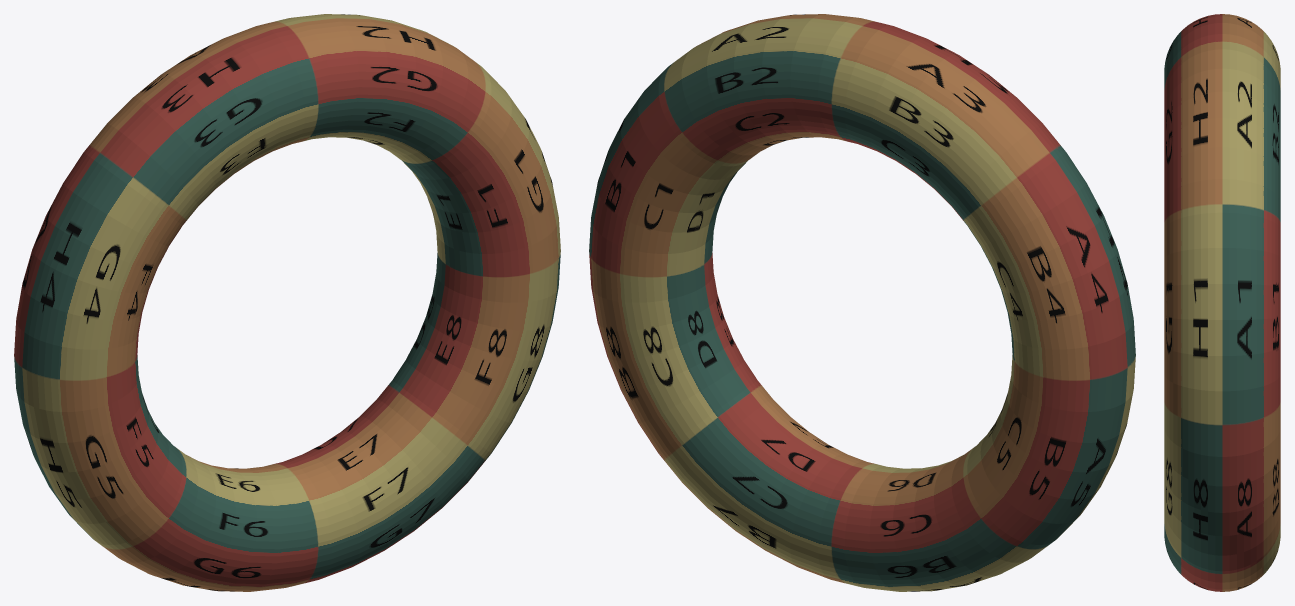
The model's file is texture_torus_R27_r19.glb.
3 renders of one model, left to right at view 1: azimuth 30°, elevation 25°; view 2: azimuth 150°, elevation 25°; view 3: azimuth 270°, elevation 25°, orthographic. The views are drawn at different scales.
Parts seen in each view (by area): view 1: world; view 2: world; view 3: world.
Part boxes in pixels (left/top/right/bottom): world: left=14, top=14, right=560, bottom=591; world: left=589, top=14, right=1135, bottom=591; world: left=1164, top=14, right=1280, bottom=591.
Bounding box in the file's own units: 35.07 × 35 × 7.05.
1 material, 1 textured.
